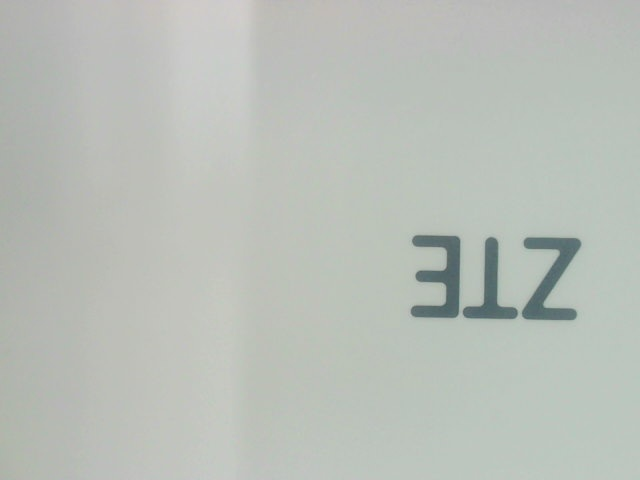AN_ZTELarge: (397, 220, 596, 330)
